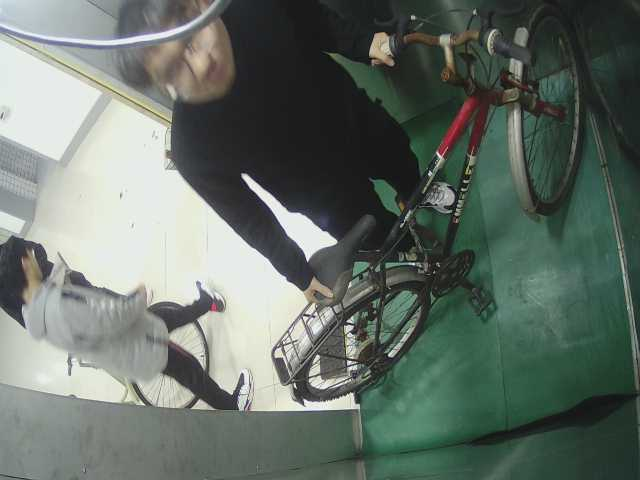bicycle: (274, 3, 594, 413), (70, 296, 213, 413)
person: (109, 1, 478, 308), (1, 237, 270, 430)
